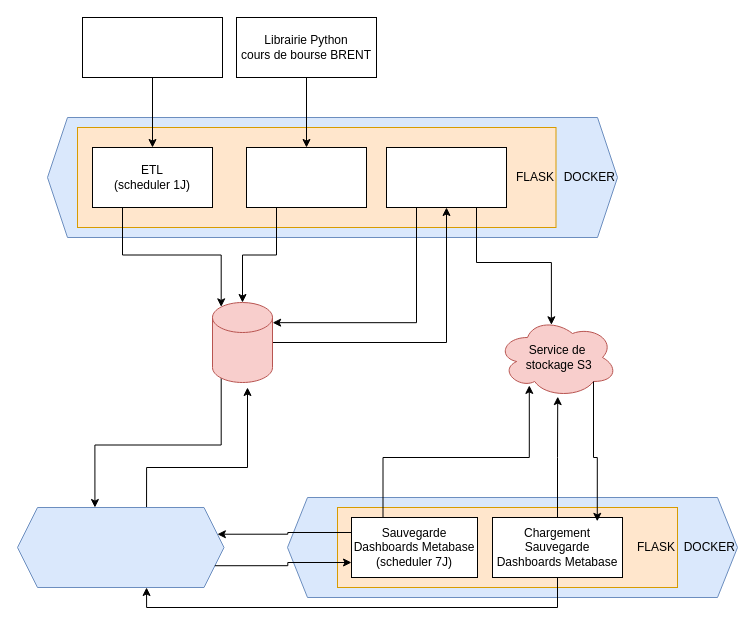
Image size: 755x633. Some labels were removed from this diagram. The shapes that lost their labels are listed below. From the top down, each one's centre as x and y in pixels, then its label:
(x=152, y=47): Opendata CSV prix station essence
(x=306, y=177): ETL (sheduler 1J)
(x=446, y=177): API Sauvegarde MongoDB (scheduler 7J)
(x=242, y=342): MongoDB Cloud
(x=120, y=547): DOCKER METABASE
